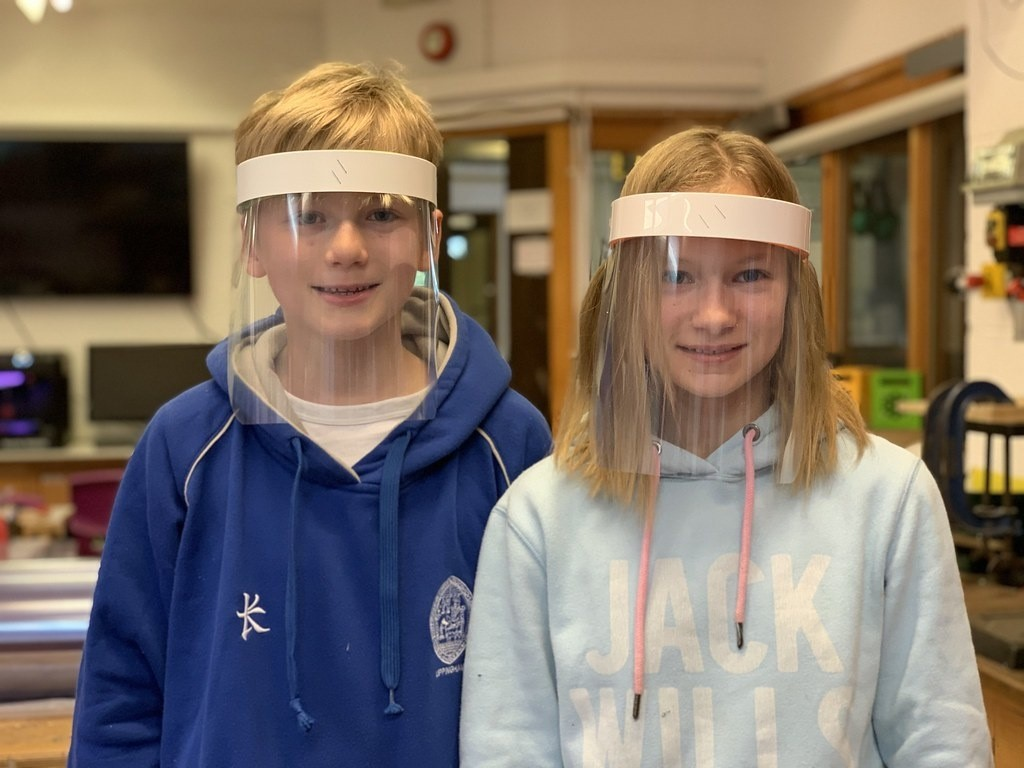face_no_mask: (235, 90, 444, 349), (622, 151, 796, 405)
